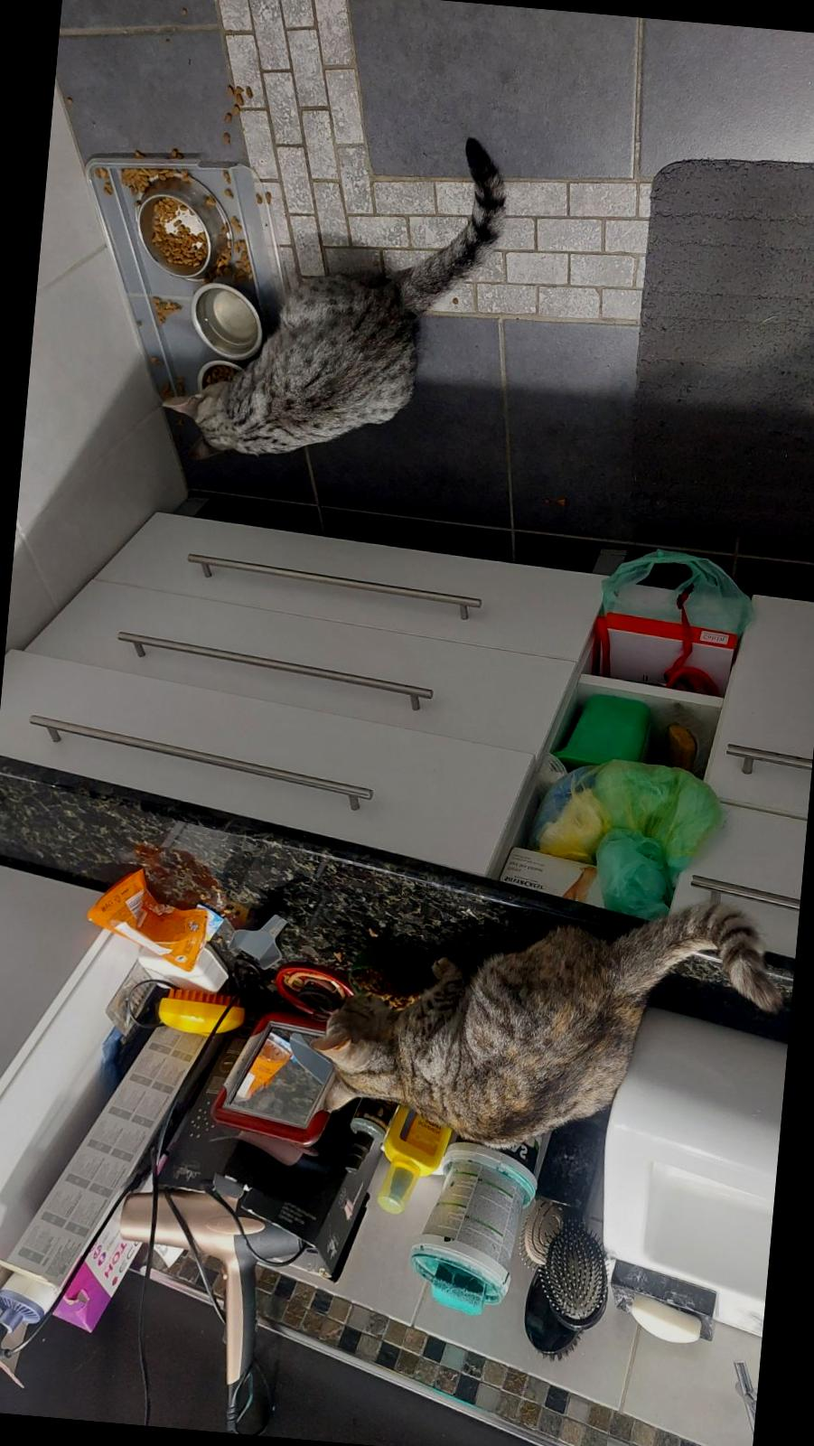macka: (306, 866, 790, 1171), (151, 112, 512, 489)
